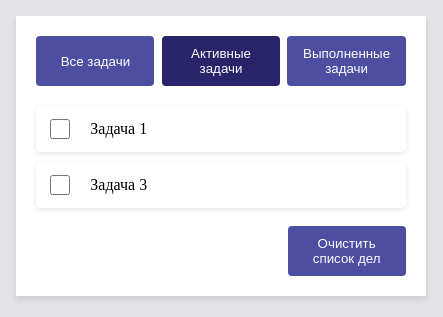
Test: TodoList component › filter completed tasks
The width and height of the screenshot is (443, 317).
Click the button "Выполненные задачи": (347, 61) x1=288 y1=36 x2=406 y2=86
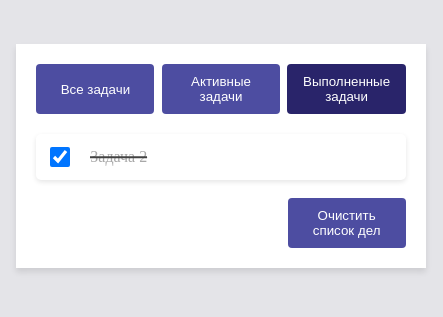
expect the text "Задача 2" is shown once: met, box x1=90 y1=148 x2=147 y2=166
expect the text "Задача 2" is shown: met, box x1=90 y1=148 x2=147 y2=166
